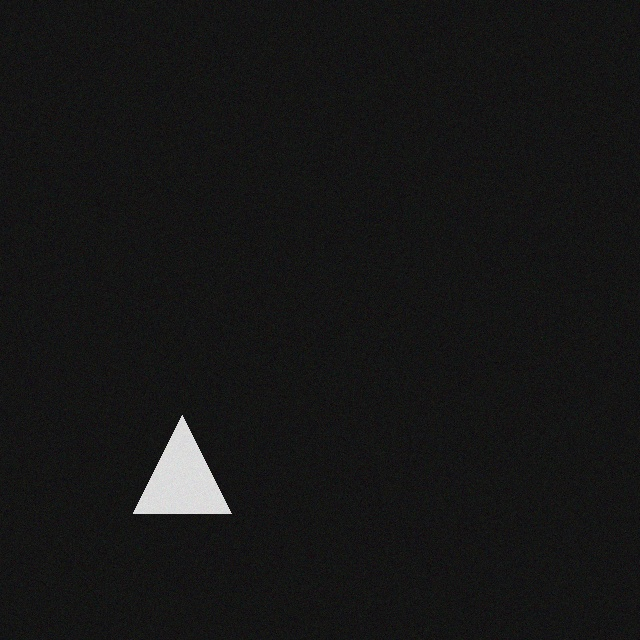triangle: (139, 400, 237, 498)
